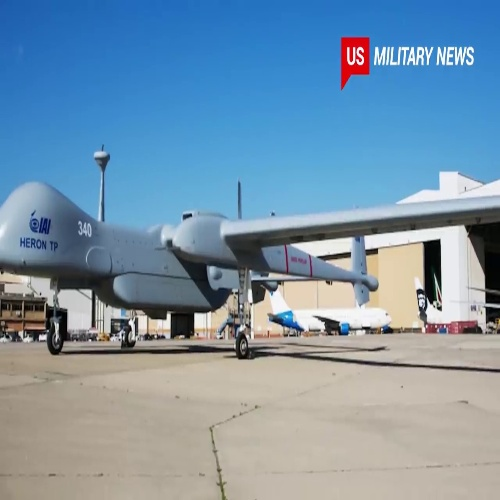uav: (1, 146, 500, 359)
